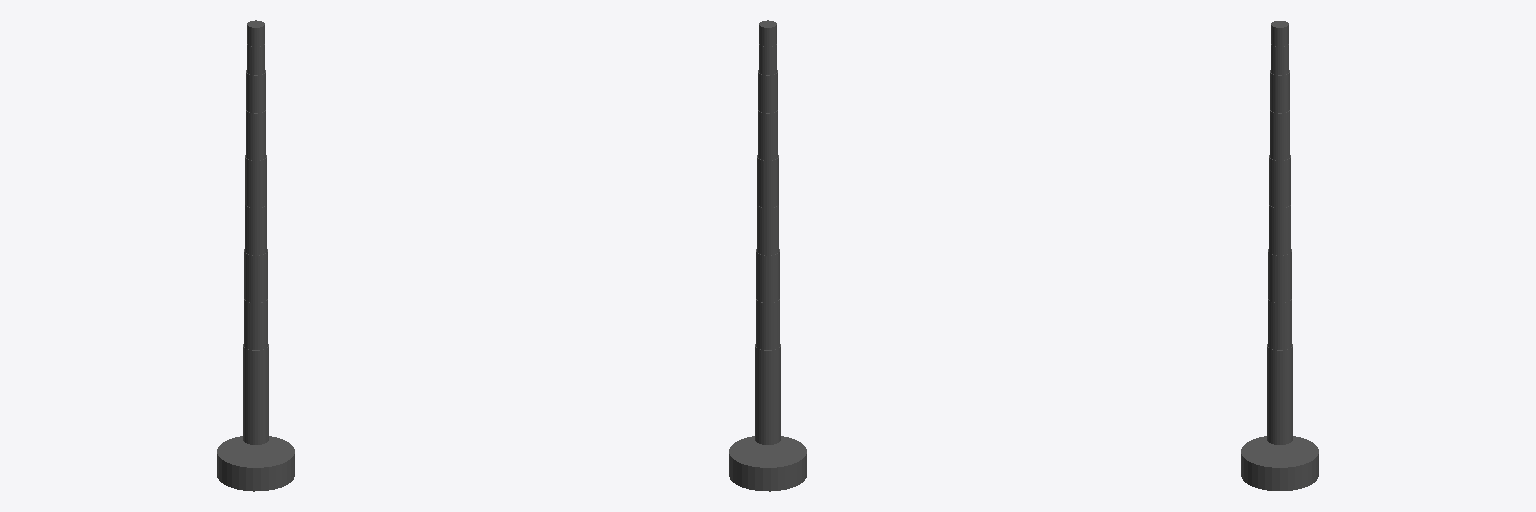
URDF robot description (simple_arm_10dof):
<?xml version="1.0"?>
<!--
  Synthetic 10-DOF serial arm for benchmarking (a longer chain than 6-DOF).
  Same parser constraints as arm_6dof.urdf: all revolute, every joint has
  origin(xyz+rpy) + axis + limit, links in kinematic-chain order (base first).
-->
<robot name="simple_arm_10dof">

  <material name="grey">
    <color rgba="0.4 0.4 0.4 1.0"/>
  </material>

  <!-- ===== LINKS: base_link + link_1..link_10 ===== -->
  <link name="base_link">
    <visual>
      <origin xyz="0 0 0" rpy="0 0 0"/>
      <geometry><cylinder radius="0.15" length="0.1"/></geometry>
      <material name="grey"/>
    </visual>
  </link>

  <link name="link_1">
    <visual><origin xyz="0 0 0.1" rpy="0 0 0"/><geometry><cylinder radius="0.05" length="0.2"/></geometry><material name="grey"/></visual>
  </link>
  <link name="link_2">
    <visual><origin xyz="0 0 0.1" rpy="0 0 0"/><geometry><cylinder radius="0.05" length="0.2"/></geometry><material name="grey"/></visual>
  </link>
  <link name="link_3">
    <visual><origin xyz="0 0 0.1" rpy="0 0 0"/><geometry><cylinder radius="0.048" length="0.2"/></geometry><material name="grey"/></visual>
  </link>
  <link name="link_4">
    <visual><origin xyz="0 0 0.1" rpy="0 0 0"/><geometry><cylinder radius="0.046" length="0.2"/></geometry><material name="grey"/></visual>
  </link>
  <link name="link_5">
    <visual><origin xyz="0 0 0.1" rpy="0 0 0"/><geometry><cylinder radius="0.044" length="0.2"/></geometry><material name="grey"/></visual>
  </link>
  <link name="link_6">
    <visual><origin xyz="0 0 0.1" rpy="0 0 0"/><geometry><cylinder radius="0.042" length="0.2"/></geometry><material name="grey"/></visual>
  </link>
  <link name="link_7">
    <visual><origin xyz="0 0 0.1" rpy="0 0 0"/><geometry><cylinder radius="0.04" length="0.2"/></geometry><material name="grey"/></visual>
  </link>
  <link name="link_8">
    <visual><origin xyz="0 0 0.08" rpy="0 0 0"/><geometry><cylinder radius="0.038" length="0.16"/></geometry><material name="grey"/></visual>
  </link>
  <link name="link_9">
    <visual><origin xyz="0 0 0.06" rpy="0 0 0"/><geometry><cylinder radius="0.036" length="0.12"/></geometry><material name="grey"/></visual>
  </link>
  <link name="link_10">
    <visual><origin xyz="0 0 0.04" rpy="0 0 0"/><geometry><cylinder radius="0.034" length="0.08"/></geometry><material name="grey"/></visual>
  </link>

  <!-- ===== JOINTS: joint_i connects link_{i-1} -> link_i; axes cycle z,y,x ===== -->
  <joint name="joint_1" type="revolute">
    <parent link="base_link"/><child link="link_1"/>
    <origin xyz="0 0 0.1" rpy="0 0 0"/><axis xyz="0 0 1"/>
    <limit lower="-2.9" upper="2.9" effort="100.0" velocity="1.0"/>
  </joint>
  <joint name="joint_2" type="revolute">
    <parent link="link_1"/><child link="link_2"/>
    <origin xyz="0 0 0.2" rpy="0 0 0"/><axis xyz="0 1 0"/>
    <limit lower="-2.0" upper="2.0" effort="100.0" velocity="1.0"/>
  </joint>
  <joint name="joint_3" type="revolute">
    <parent link="link_2"/><child link="link_3"/>
    <origin xyz="0 0 0.2" rpy="0 0 0"/><axis xyz="1 0 0"/>
    <limit lower="-2.5" upper="2.5" effort="100.0" velocity="1.0"/>
  </joint>
  <joint name="joint_4" type="revolute">
    <parent link="link_3"/><child link="link_4"/>
    <origin xyz="0 0 0.2" rpy="0 0 0"/><axis xyz="0 0 1"/>
    <limit lower="-2.9" upper="2.9" effort="100.0" velocity="1.0"/>
  </joint>
  <joint name="joint_5" type="revolute">
    <parent link="link_4"/><child link="link_5"/>
    <origin xyz="0 0 0.2" rpy="0 0 0"/><axis xyz="0 1 0"/>
    <limit lower="-2.0" upper="2.0" effort="100.0" velocity="1.0"/>
  </joint>
  <joint name="joint_6" type="revolute">
    <parent link="link_5"/><child link="link_6"/>
    <origin xyz="0 0 0.2" rpy="0 0 0"/><axis xyz="1 0 0"/>
    <limit lower="-2.5" upper="2.5" effort="100.0" velocity="1.0"/>
  </joint>
  <joint name="joint_7" type="revolute">
    <parent link="link_6"/><child link="link_7"/>
    <origin xyz="0 0 0.2" rpy="0 0 0"/><axis xyz="0 0 1"/>
    <limit lower="-2.9" upper="2.9" effort="100.0" velocity="1.0"/>
  </joint>
  <joint name="joint_8" type="revolute">
    <parent link="link_7"/><child link="link_8"/>
    <origin xyz="0 0 0.2" rpy="0 0 0"/><axis xyz="0 1 0"/>
    <limit lower="-2.0" upper="2.0" effort="100.0" velocity="1.0"/>
  </joint>
  <joint name="joint_9" type="revolute">
    <parent link="link_8"/><child link="link_9"/>
    <origin xyz="0 0 0.16" rpy="0 0 0"/><axis xyz="1 0 0"/>
    <limit lower="-2.5" upper="2.5" effort="100.0" velocity="1.0"/>
  </joint>
  <joint name="joint_10" type="revolute">
    <parent link="link_9"/><child link="link_10"/>
    <origin xyz="0 0 0.12" rpy="0 0 0"/><axis xyz="0 0 1"/>
    <limit lower="-2.9" upper="2.9" effort="100.0" velocity="1.0"/>
  </joint>

</robot>

--- Render facts (derived) ---
Views: 3 orthographic renders of the robot side by side, from view 1: azimuth 30°, elevation 25°; view 2: azimuth 150°, elevation 25°; view 3: azimuth 270°, elevation 25°.
Model simple_arm_10dof with 11 links and 10 joints (10 revolute), rooted at base_link, posed all joints at 0.
Visible links, largest first — view 1: base_link, link_2, link_1, link_4, link_3, link_6, link_5, link_7, link_8; view 2: base_link, link_2, link_1, link_4, link_3, link_6, link_5, link_7, link_8; view 3: base_link, link_2, link_1, link_4, link_3, link_5, link_6, link_7, link_8.
Boxes of the visible links, left/top/right/bottom form: base_link: left=217, top=436, right=294, bottom=491; link_2: left=243, top=344, right=268, bottom=397; link_1: left=243, top=394, right=268, bottom=444; link_4: left=244, top=249, right=267, bottom=302; link_3: left=244, top=299, right=267, bottom=349; link_6: left=245, top=155, right=266, bottom=207; link_5: left=245, top=205, right=266, bottom=255; link_7: left=246, top=110, right=265, bottom=160; link_8: left=246, top=70, right=265, bottom=112; base_link: left=729, top=436, right=806, bottom=491; link_2: left=755, top=344, right=780, bottom=397; link_1: left=755, top=394, right=780, bottom=444; link_4: left=756, top=249, right=779, bottom=302; link_3: left=756, top=299, right=779, bottom=349; link_6: left=757, top=155, right=778, bottom=207; link_5: left=757, top=205, right=778, bottom=255; link_7: left=758, top=110, right=777, bottom=160; link_8: left=758, top=70, right=777, bottom=112; base_link: left=1241, top=436, right=1318, bottom=490; link_2: left=1267, top=344, right=1292, bottom=397; link_1: left=1267, top=394, right=1292, bottom=444; link_4: left=1268, top=249, right=1291, bottom=302; link_3: left=1268, top=299, right=1291, bottom=349; link_5: left=1269, top=205, right=1290, bottom=255; link_6: left=1269, top=155, right=1290, bottom=207; link_7: left=1270, top=110, right=1289, bottom=160; link_8: left=1270, top=70, right=1289, bottom=112.
Size in the robot's own frame: 0.3 by 0.3 by 1.91 metres.
Geometry: primitives only (box / cylinder / sphere), no mesh files.
